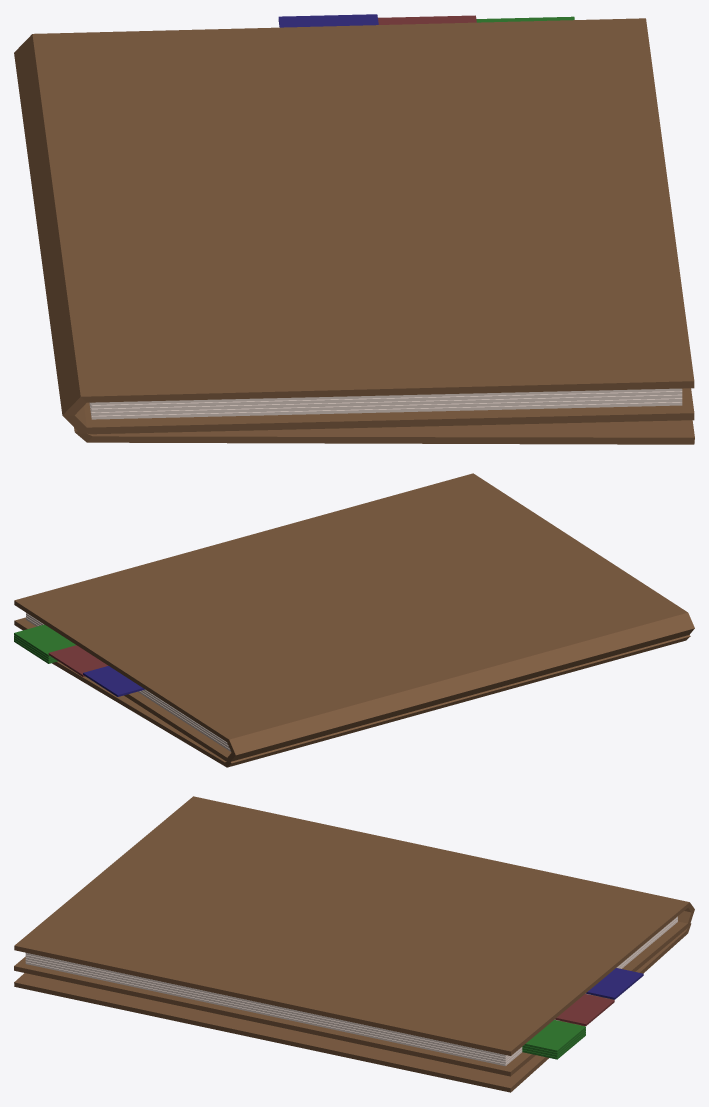
File: carpeta.fbx
The picture shows the model from 3 angles, top to bottom: view 1: azimuth 30°, elevation 25°; view 2: azimuth 150°, elevation 25°; view 3: azimuth 270°, elevation 25°; orthographic projection. The views are drawn at different scales.
Parts seen in each view (by area): view 1: carpeta cerrada, carpeta abierta, hoja 3, hoja 2, hoja 5, hoja 6, hoja 4, hoja 1; view 2: carpeta cerrada, carpeta abierta, hoja 3, hoja 1, hoja 2; view 3: carpeta cerrada, carpeta abierta, hoja 3, hoja 2, hoja 5, hoja 6, hoja 4, hoja 1.
Boxes of the visible parts, box(x1,y1,x2,y2) form: carpeta cerrada: box(14, 18, 694, 433); carpeta abierta: box(74, 403, 694, 444); hoja 3: box(91, 16, 682, 408); hoja 2: box(91, 15, 682, 405); hoja 5: box(90, 398, 682, 415); hoja 6: box(89, 402, 682, 419); hoja 4: box(90, 394, 682, 412); hoja 1: box(278, 14, 378, 27); carpeta cerrada: box(14, 473, 694, 762); carpeta abierta: box(52, 635, 690, 767); hoja 3: box(14, 612, 226, 742); hoja 1: box(83, 666, 144, 696); hoja 2: box(48, 645, 108, 676); carpeta cerrada: box(14, 796, 694, 1075); carpeta abierta: box(14, 923, 691, 1092); hoja 3: box(25, 955, 585, 1059); hoja 2: box(25, 953, 614, 1056); hoja 5: box(25, 917, 677, 1063); hoja 6: box(25, 920, 677, 1066); hoja 4: box(25, 916, 677, 1061); hoja 1: box(586, 968, 643, 999).
Size of the model in its own units: 2108 by 155 by 2328.
